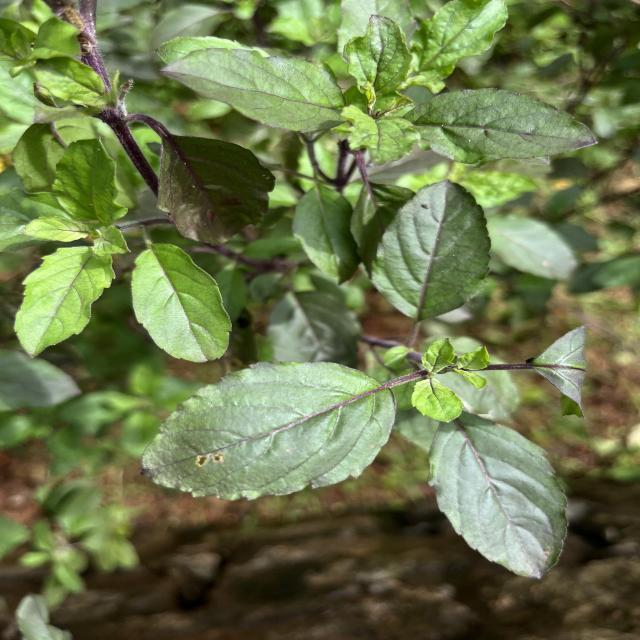Ocimum tenuiflorum: (140, 356, 401, 504), (424, 411, 570, 584), (130, 242, 235, 365), (12, 244, 118, 360)
